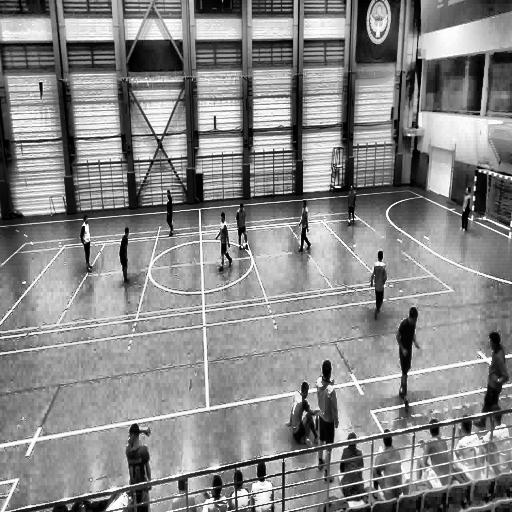ball: (243, 243, 246, 253)
player: (315, 358, 338, 482), (396, 307, 418, 411), (126, 424, 153, 502), (487, 332, 509, 412), (370, 249, 386, 320), (215, 212, 232, 271), (297, 199, 311, 252), (81, 214, 93, 270), (460, 186, 474, 234), (120, 227, 131, 283), (236, 203, 248, 251), (165, 190, 175, 237), (346, 184, 356, 226)
